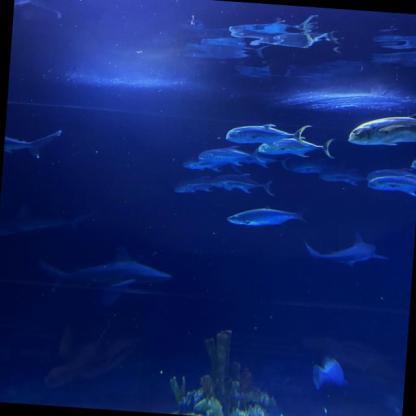fish: (347, 107, 415, 152), (225, 120, 308, 148), (257, 131, 336, 160), (226, 204, 308, 230), (198, 144, 267, 169), (212, 172, 274, 196), (310, 354, 347, 390), (366, 173, 416, 198), (284, 156, 342, 177), (175, 172, 225, 196), (318, 168, 370, 188), (185, 154, 223, 172), (410, 157, 416, 172)
shark: (38, 240, 171, 298), (0, 202, 96, 244), (302, 230, 390, 268), (3, 118, 61, 160)
